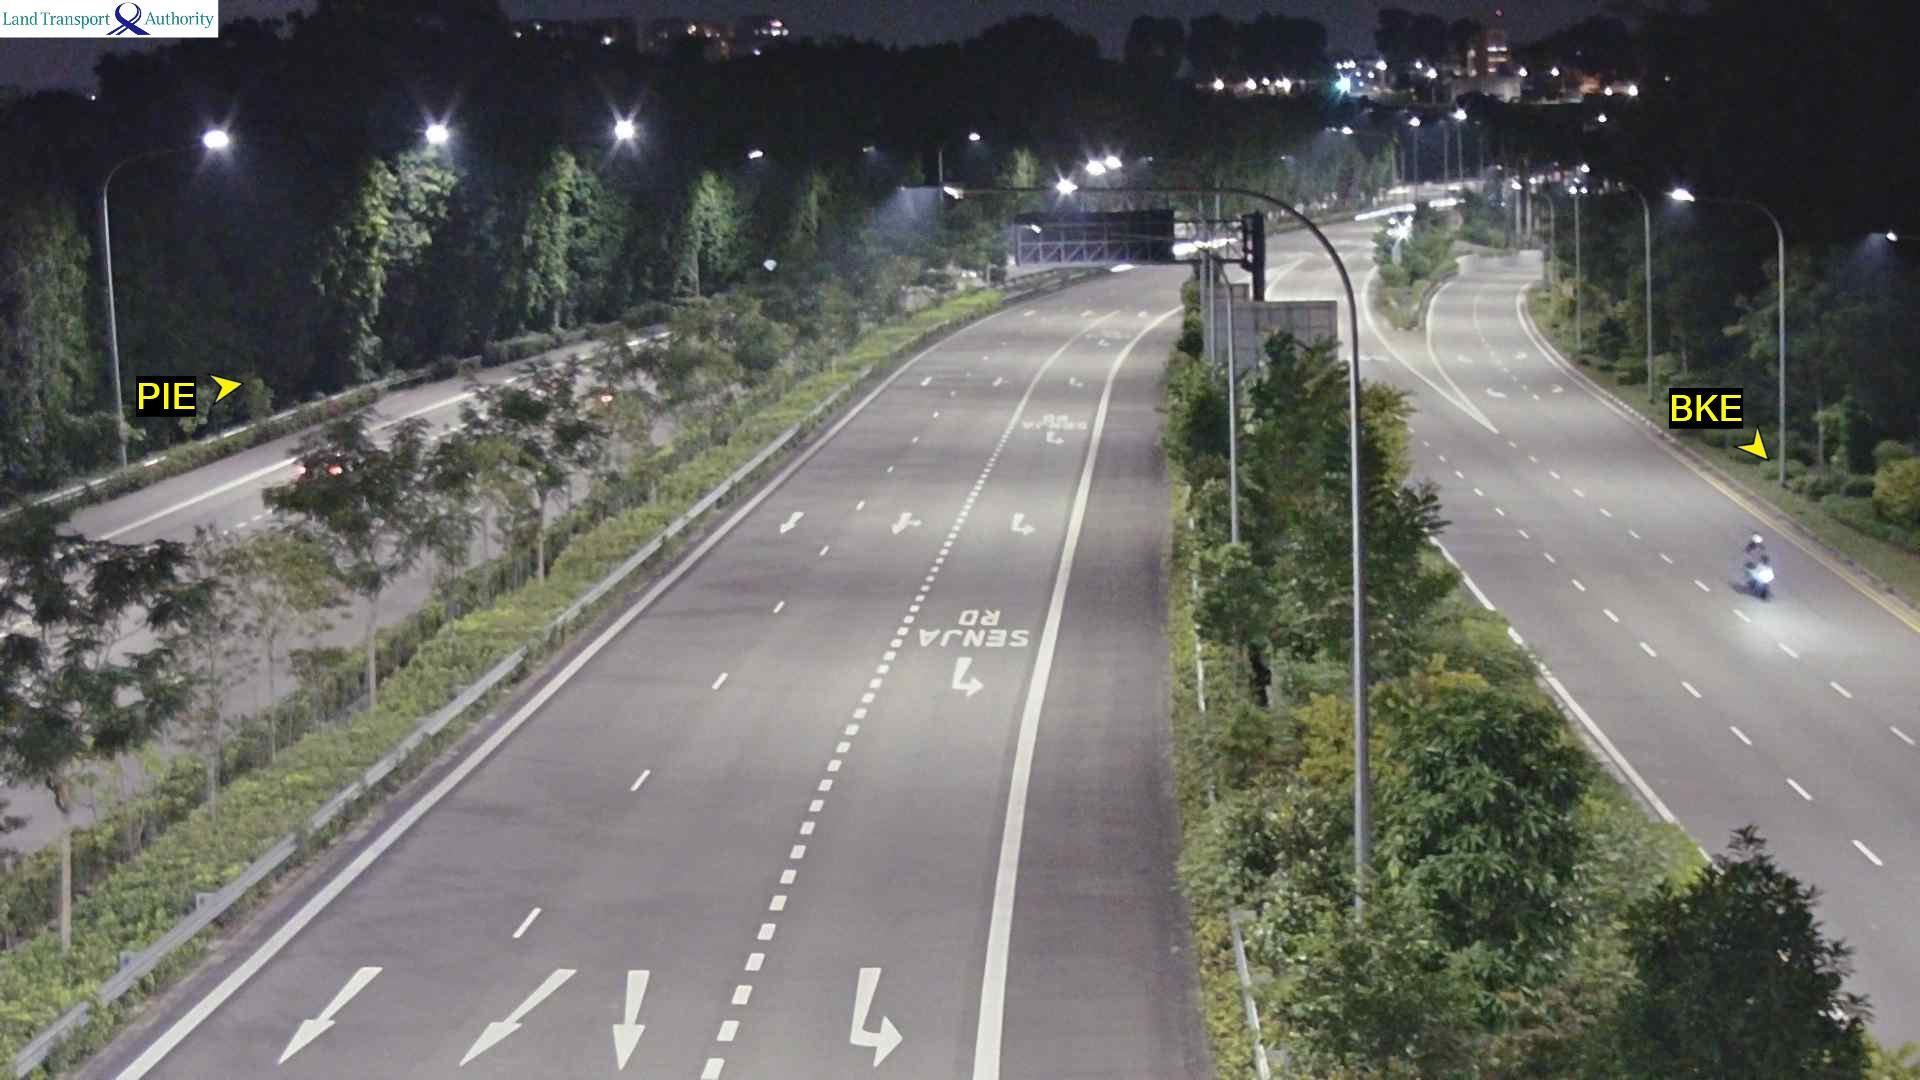cars: (289, 442, 366, 491)
motorcycle: (1741, 532, 1775, 600)
